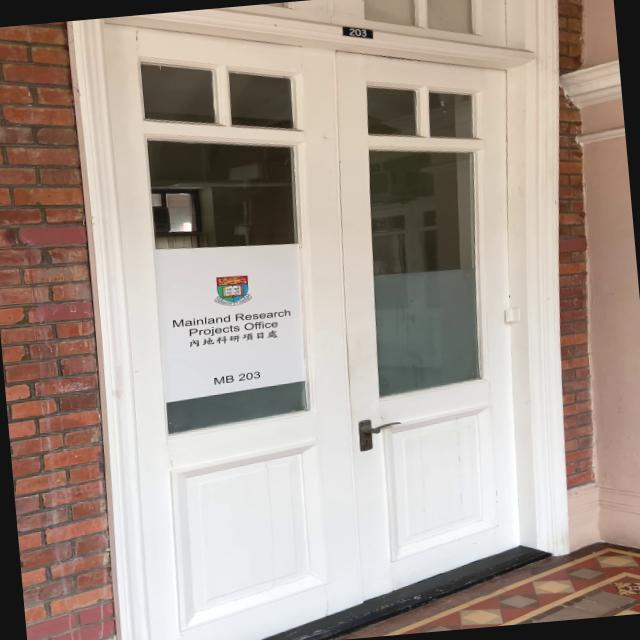room203: (334, 21, 376, 45)
room203Window: (201, 364, 270, 389)
